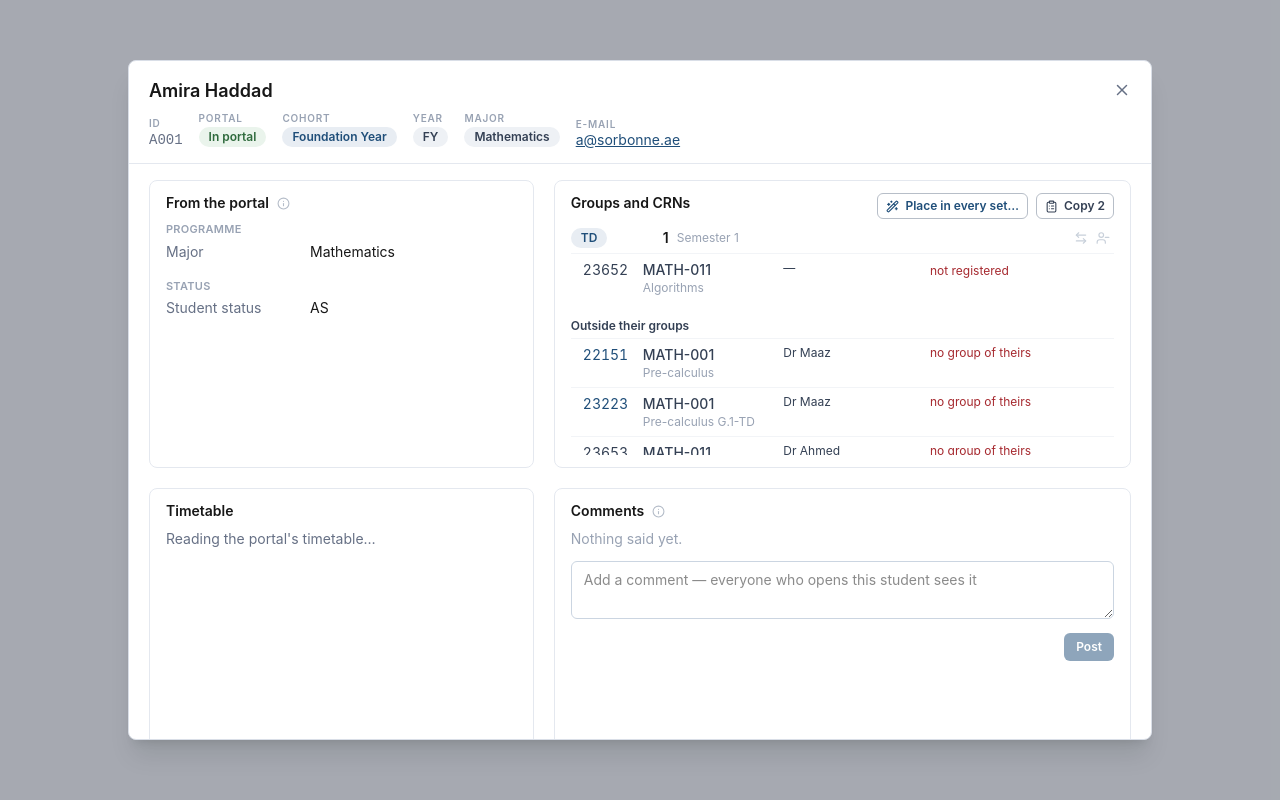
it: a student's record › says nothing of a clash for a group that meets at no hour of theirs
Click the button named "Change group in TD" at [1081, 238], box [1070, 227, 1092, 249]
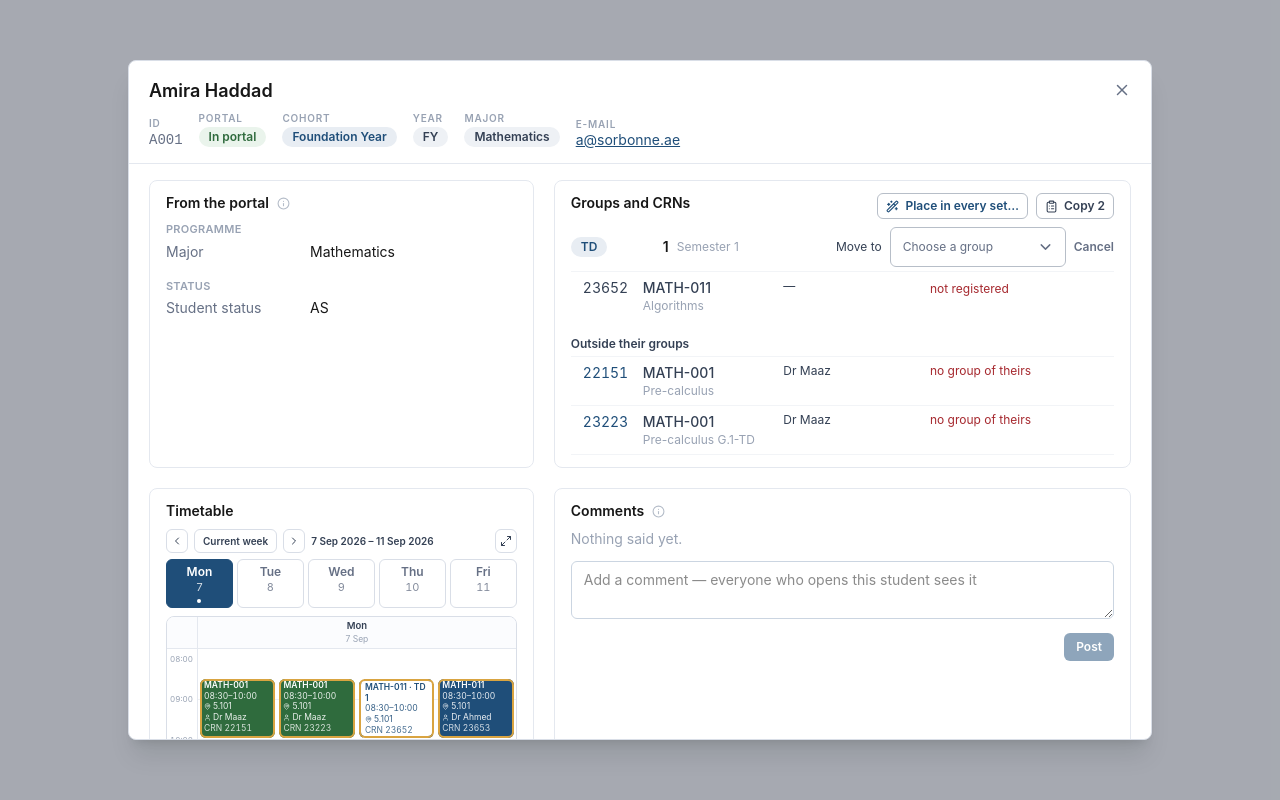
Check: the dropdown named "Move from TD 1 to" is enabled
Click the dropdown named "Move from TD 1 to" at [978, 247], box [890, 227, 1066, 267]
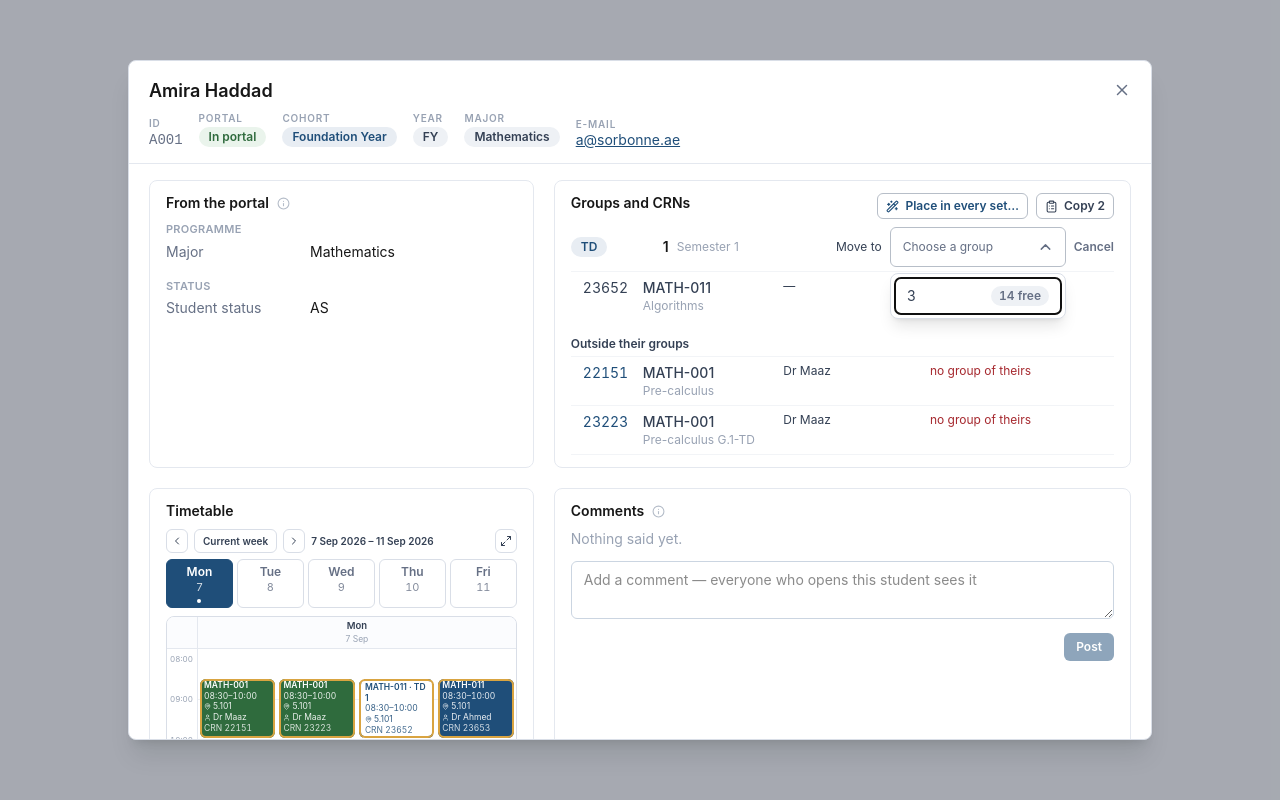
Click the option "3 14 free" at [978, 296], box [895, 278, 1061, 314]
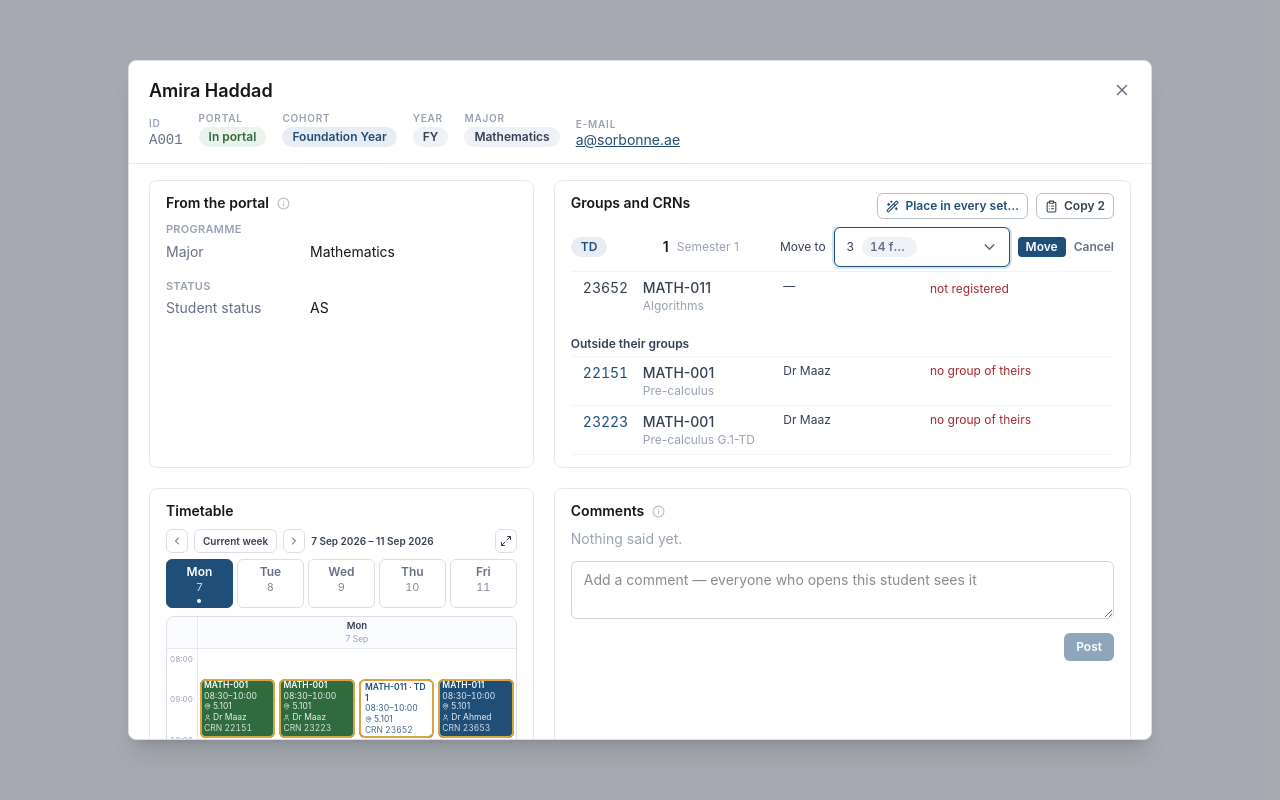
Check: the button "Move" is shown, box [1018, 237, 1066, 257]
